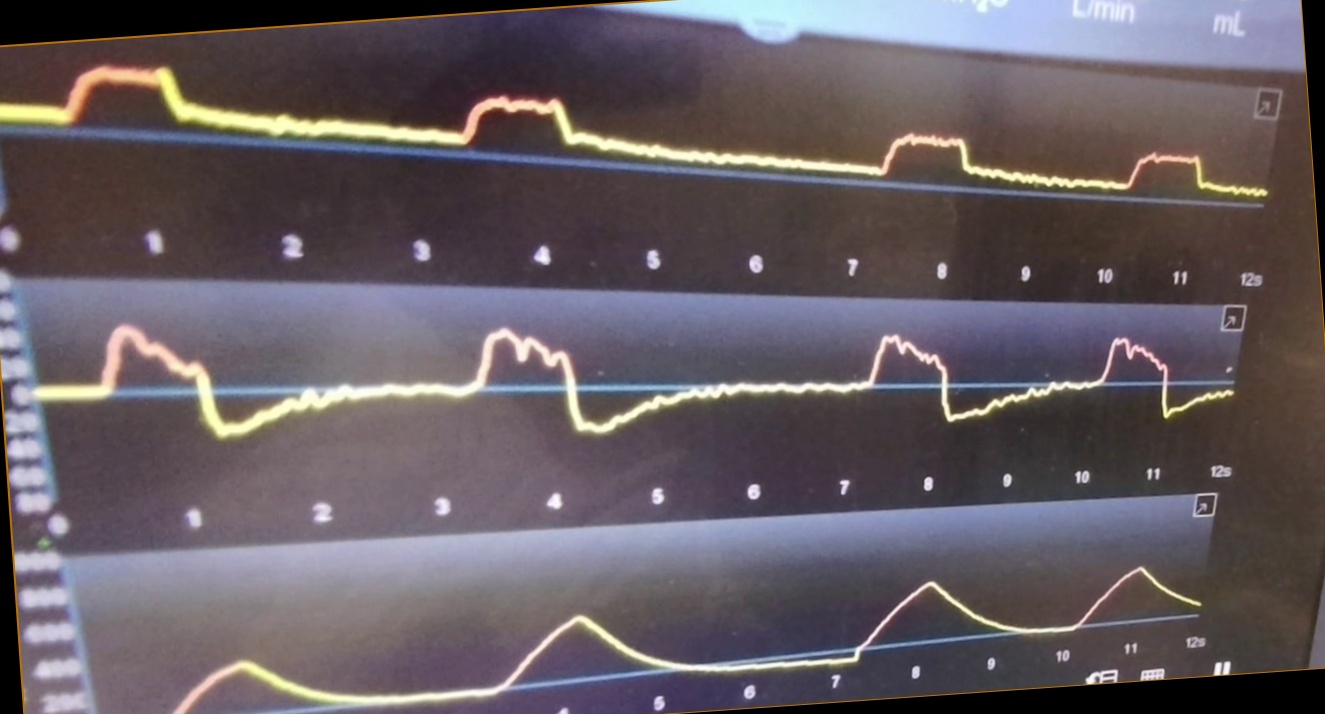Accumulation Flow: (44, 327, 1231, 470)
Volume: (163, 558, 1203, 714)
